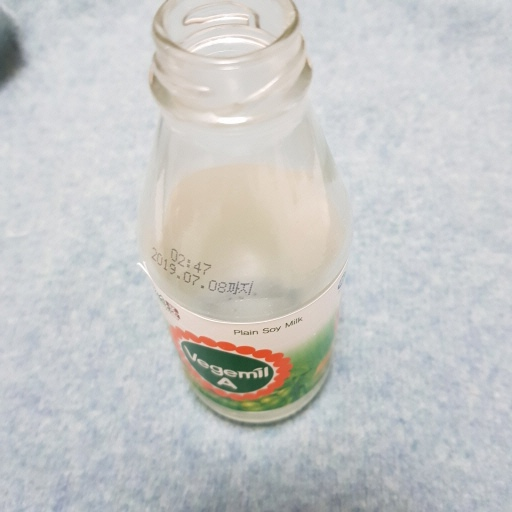Glass_4: (142, 3, 350, 432)
